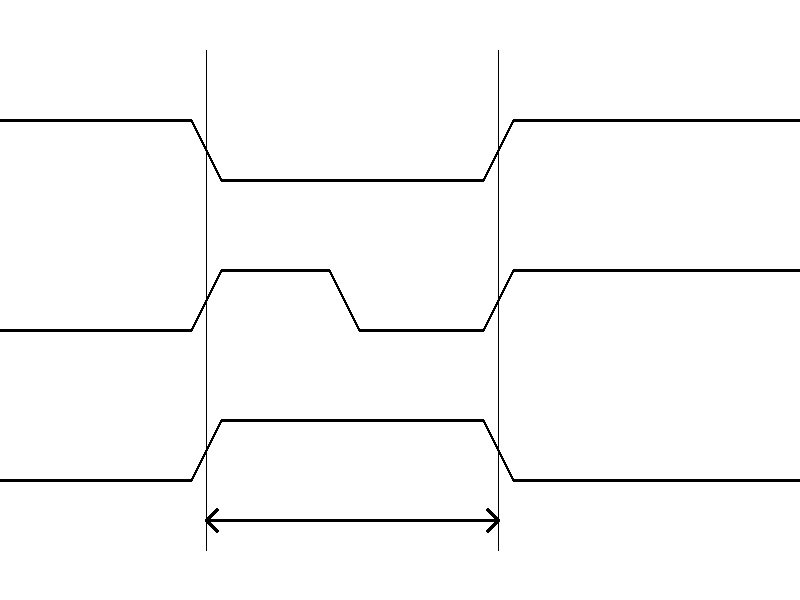double_arrow: (206, 505, 498, 535)
